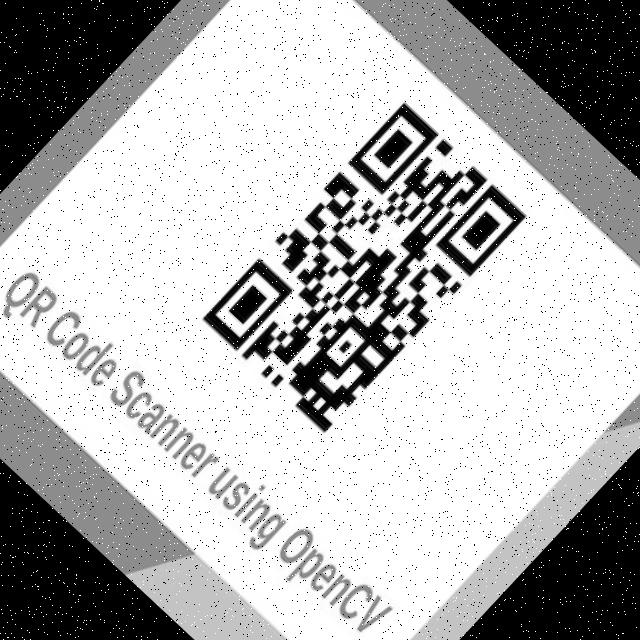QR-codes: (200, 97, 530, 433)
